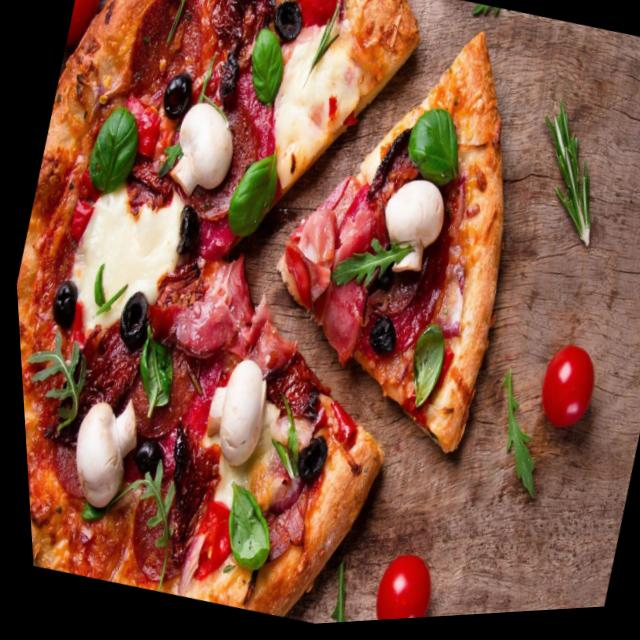pizza: (0, 0, 582, 640)
